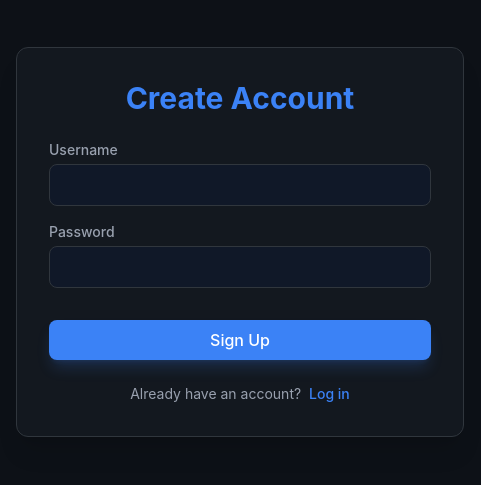
Signup Page — client-side validation › short password (5 chars) shows client-side error without hitting API
Type "validuser" into the field at point(240, 185), box [49,164,431,206]
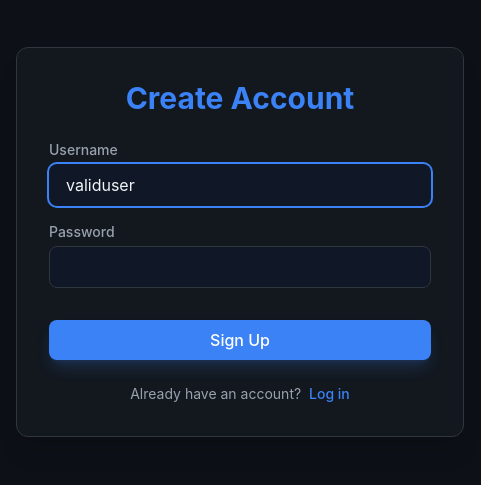
Type "12345" into the password field at point(240, 267), box [49,246,431,288]
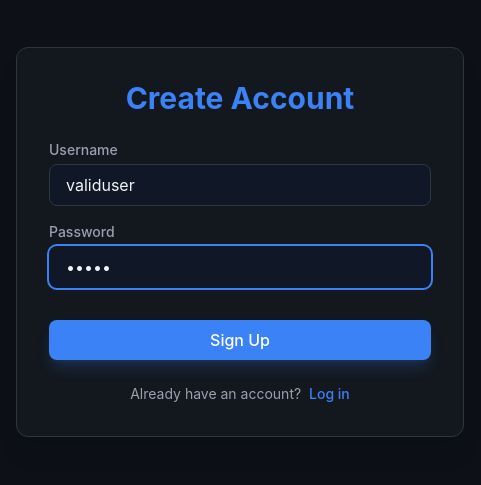
Click the button "Sign Up" at point(240, 340), box [49,320,431,360]
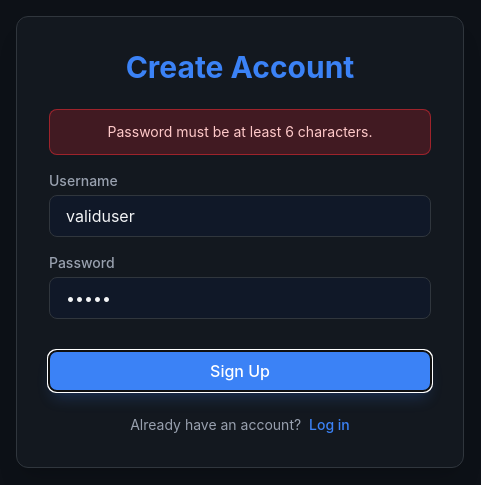
Check: the text "Password must be at least 6 characters." is shown, box [49,109,431,155]
